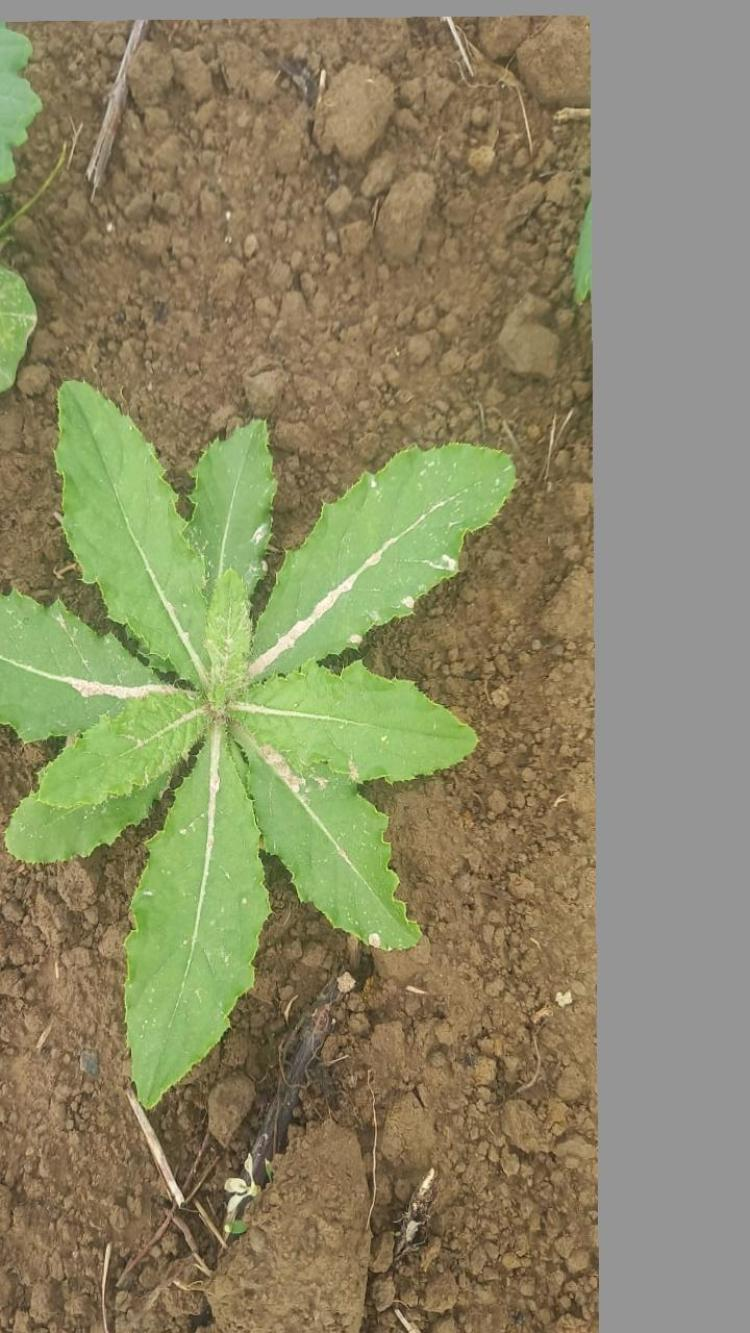osot: (0, 352, 538, 1118)
